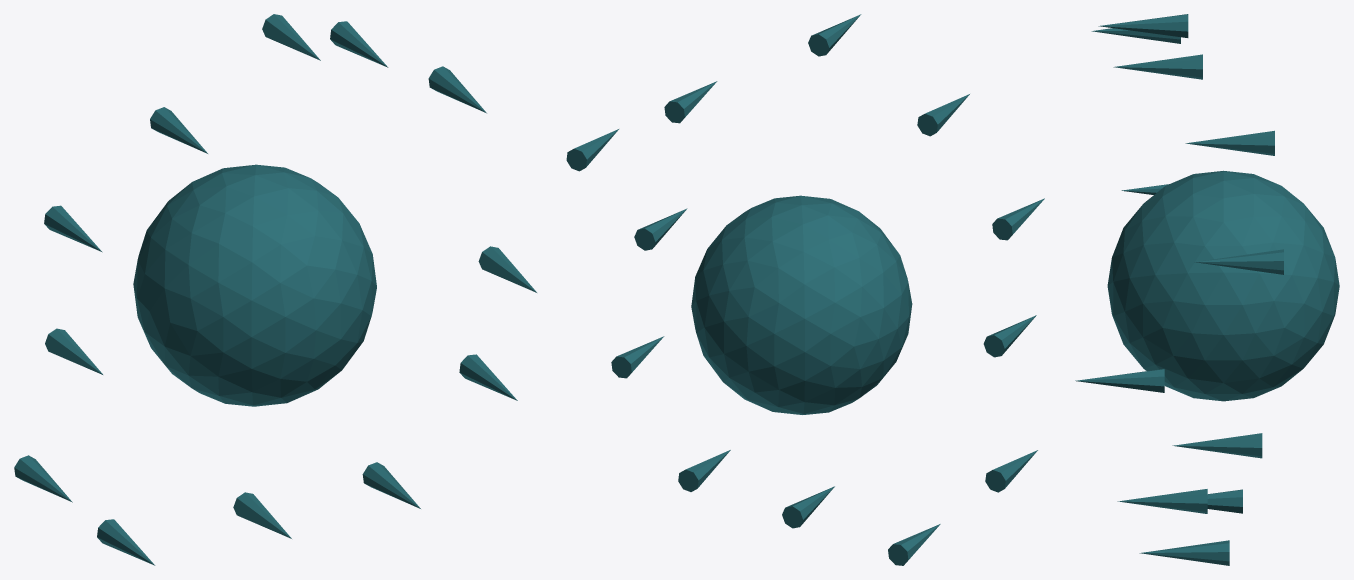
File: tech_138.glb
The picture shows the model from 3 angles, left to right: view 1: azimuth 30°, elevation 25°; view 2: azimuth 150°, elevation 25°; view 3: azimuth 270°, elevation 25°; orthographic projection. The views are drawn at different scales.
Parts seen in each view (by area): view 1: world; view 2: world; view 3: world.
Part boxes in pixels (x1,y1,x2,y2): world: [14, 14, 536, 565]; world: [566, 14, 1044, 565]; world: [1075, 14, 1339, 565].
Bounding box in the file's own units: 1.96 × 2.14 × 1.03.
